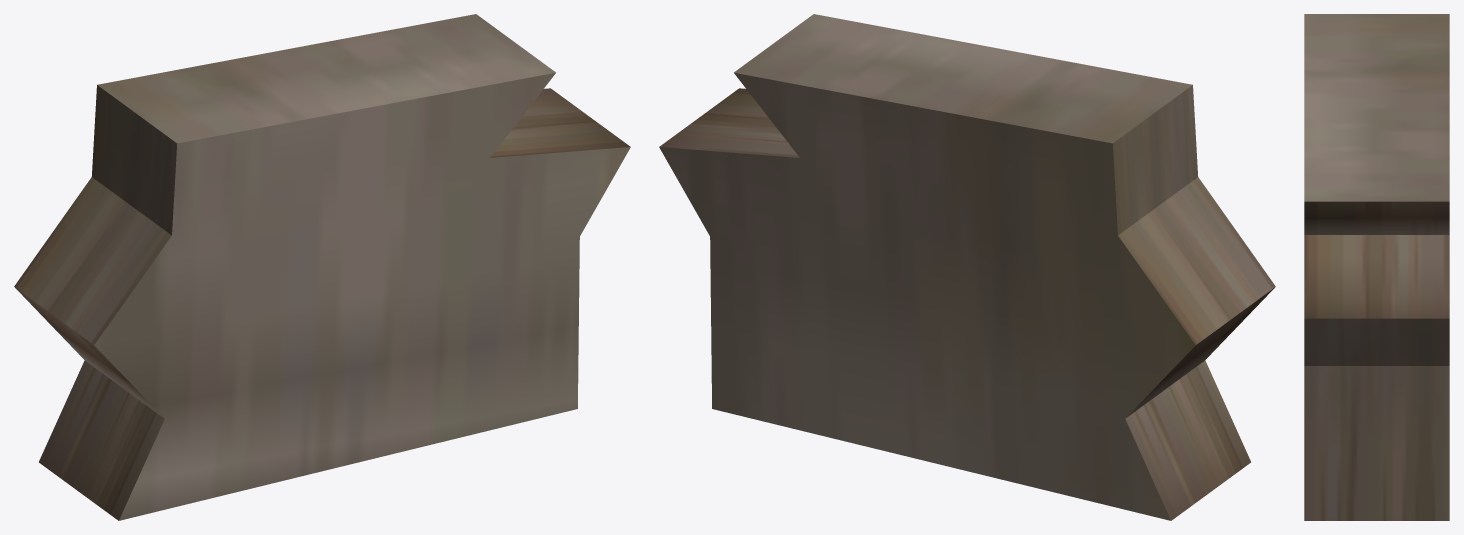
The model's file is WoodChunk4.fbx.
The picture shows the model from 3 angles, left to right: view 1: azimuth 30°, elevation 25°; view 2: azimuth 150°, elevation 25°; view 3: azimuth 270°, elevation 25°; orthographic projection. The views are drawn at different scales.
Visible parts, largest first — view 1: WoodChunk4; view 2: WoodChunk4; view 3: WoodChunk4.
Part boxes in pixels (<box>): WoodChunk4: <box>14,14,630,520</box>; WoodChunk4: <box>659,14,1275,520</box>; WoodChunk4: <box>1304,14,1449,520</box>.
Bounding box in the file's own units: 1.55 × 1 × 0.4.
Materials: 1 (1 with a texture image).
